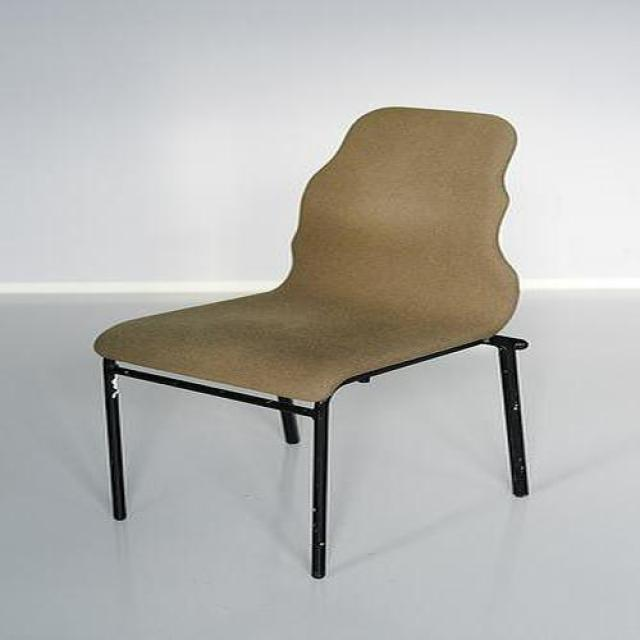chair: (92, 108, 527, 581)
